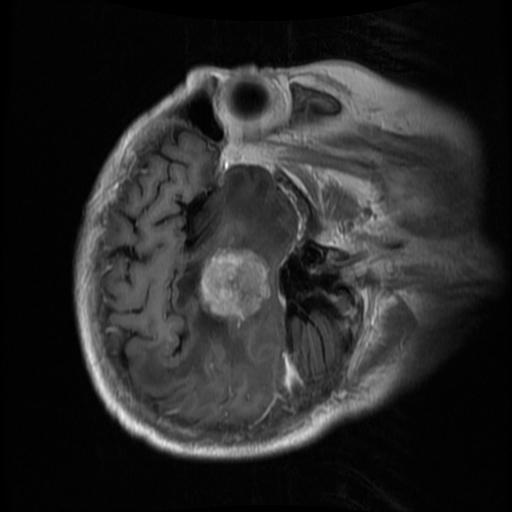meningioma: (196, 249, 270, 322)
